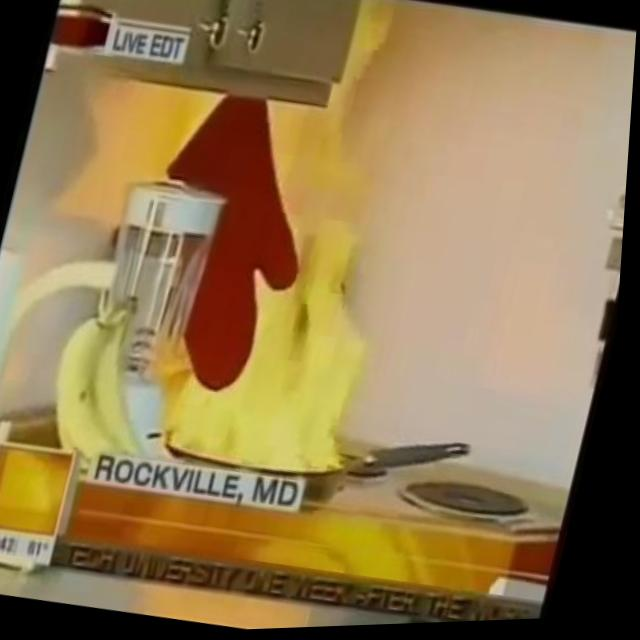fire: (148, 177, 414, 499)
